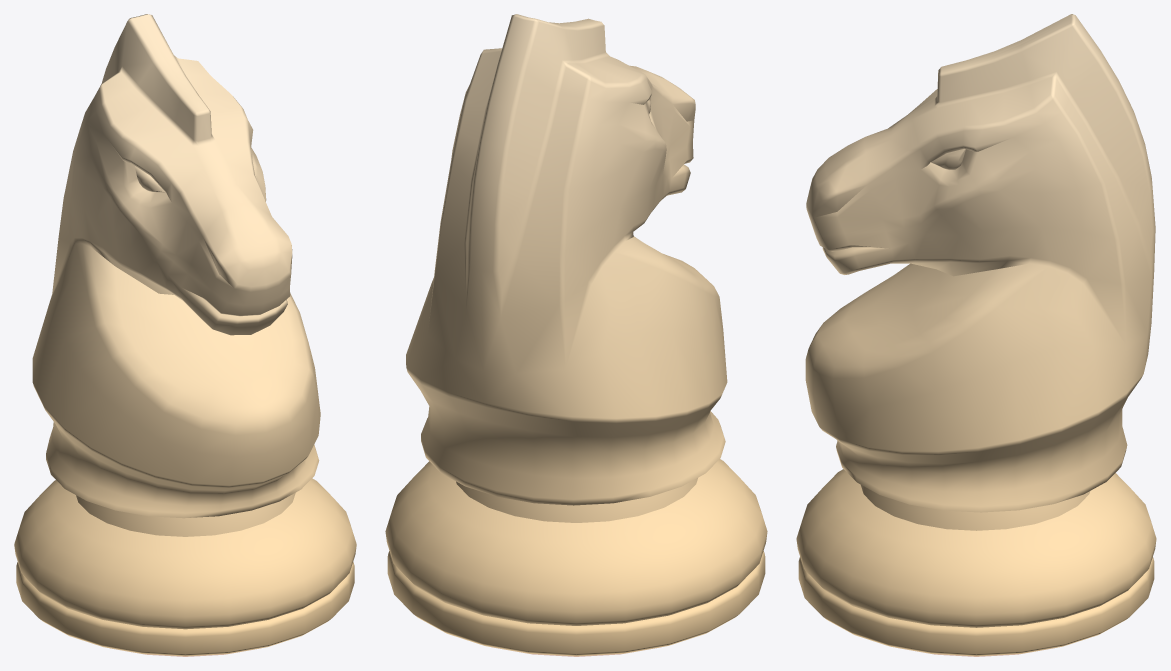
The model's file is Chess_White_Hoss_01.glb.
3 views of the same model, side by side, from view 1: azimuth 30°, elevation 25°; view 2: azimuth 150°, elevation 25°; view 3: azimuth 270°, elevation 25° (orthographic). The views are drawn at different scales.
Parts seen in each view (by area): view 1: Chess_White_Hoss_01; view 2: Chess_White_Hoss_01; view 3: Chess_White_Hoss_01.
Part boxes in pixels (x1=…): Chess_White_Hoss_01: x1=14, y1=14, x2=356, y2=656; Chess_White_Hoss_01: x1=385, y1=14, x2=767, y2=656; Chess_White_Hoss_01: x1=796, y1=14, x2=1156, y2=656.
Size of the model in its own units: 0.0368 by 0.0644 by 0.0368.
2 materials, 2 textured.
